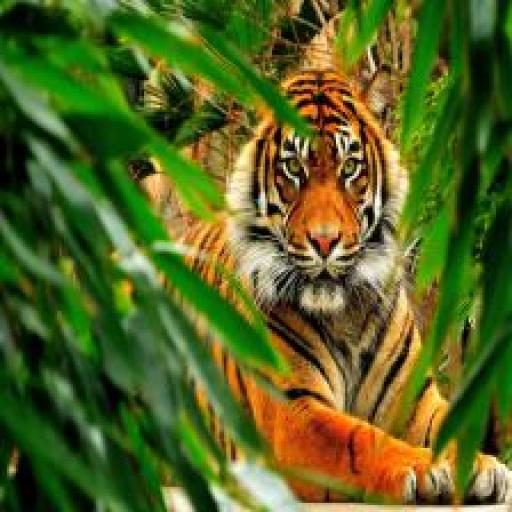Tiger: (148, 50, 512, 501)
